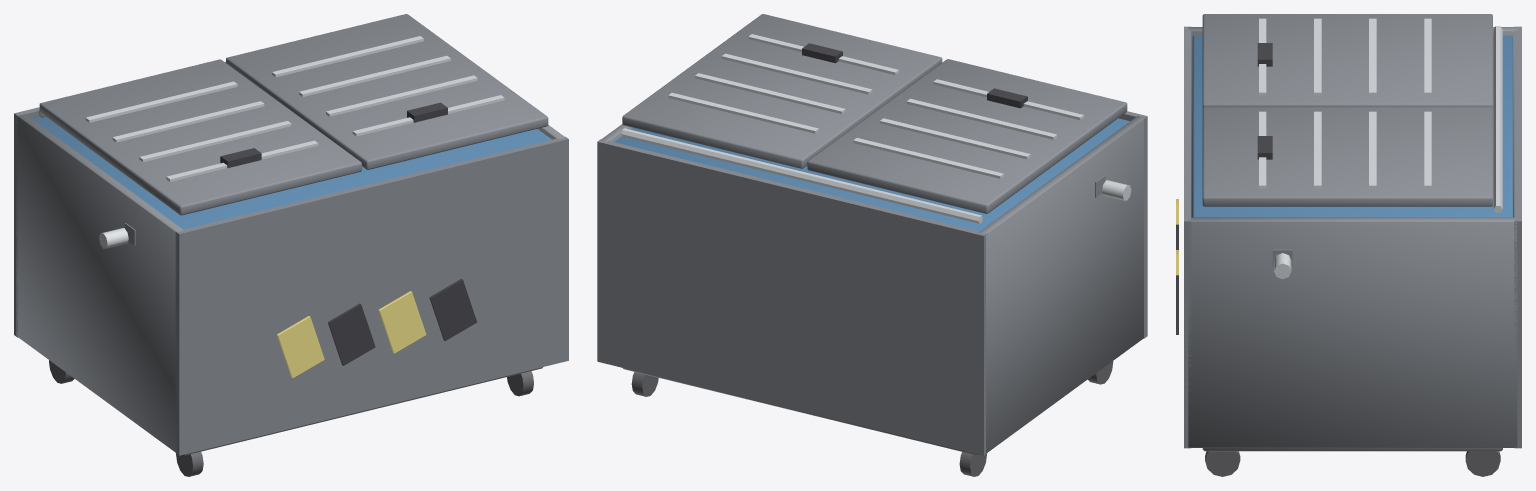
The model's file is Dumpster_Rear.fbx.
The picture shows the model from 3 angles, left to right: view 1: azimuth 30°, elevation 25°; view 2: azimuth 150°, elevation 25°; view 3: azimuth 270°, elevation 25°; orthographic projection. The views are drawn at different scales.
Visible parts, largest first — view 1: LOD0; view 2: LOD0; view 3: LOD0.
Boxes of the visible parts, x1,y1,x2,y2 form: LOD0: (14,14,568,476); LOD0: (597,14,1147,476); LOD0: (1176,14,1521,476).
Size of what is drawn, in the model's own units: 210 by 130 by 138.
